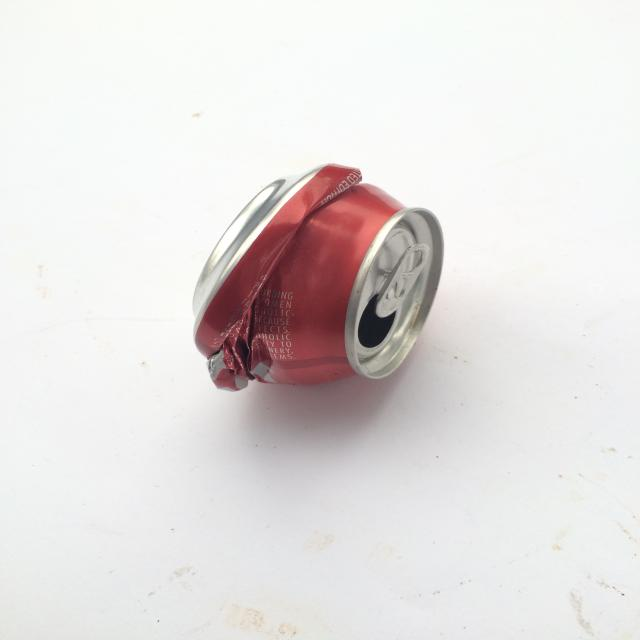metal: (190, 162, 444, 392)
